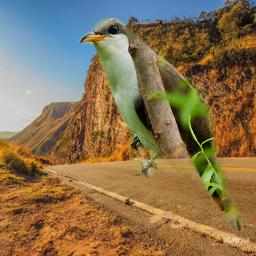Cuckoo: (74, 18, 253, 232)
